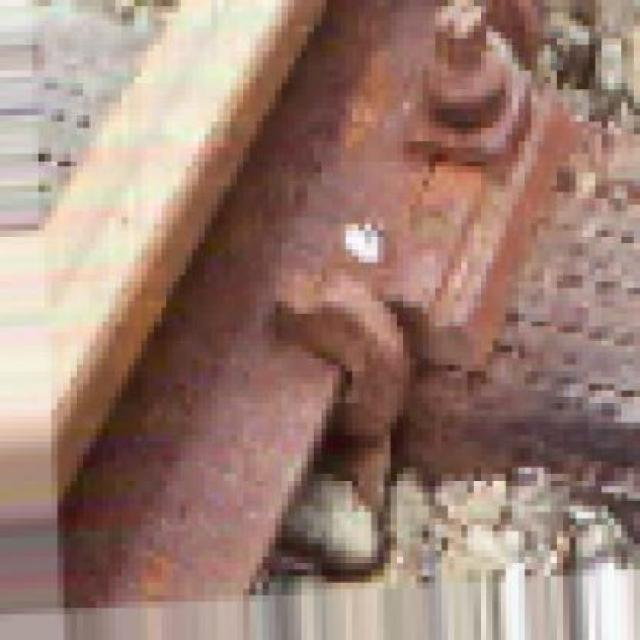defective: (25, 4, 640, 640)
